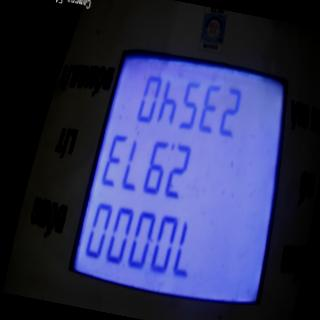screen: (59, 19, 310, 320)
